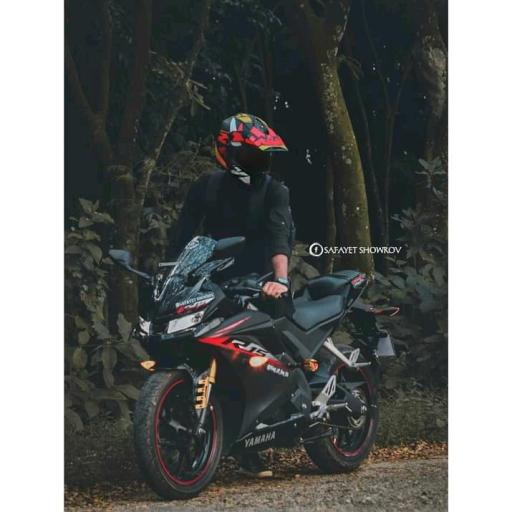helmet: (212, 111, 288, 186)
overloading: (105, 231, 401, 499)
